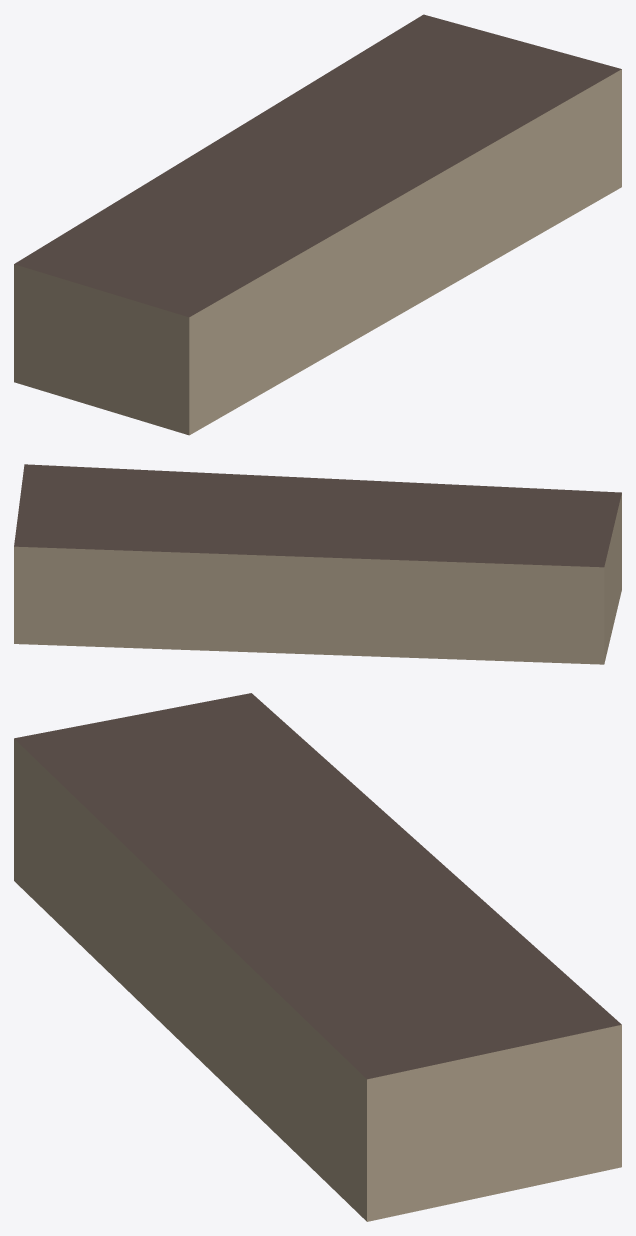
3 views of the same model, one above another, from view 1: azimuth 30°, elevation 25°; view 2: azimuth 150°, elevation 25°; view 3: azimuth 270°, elevation 25° (orthographic). The views are drawn at different scales.
Visible parts, largest first — view 1: HP-w1515076962; view 2: HP-w1515076962; view 3: HP-w1515076962.
Boxes of the visible parts, bbox=[...] form: HP-w1515076962: bbox=[14, 14, 621, 435]; HP-w1515076962: bbox=[14, 464, 621, 664]; HP-w1515076962: bbox=[14, 693, 621, 1221].
Bounding box in the file's own units: 52.3 × 9 × 34.78.
